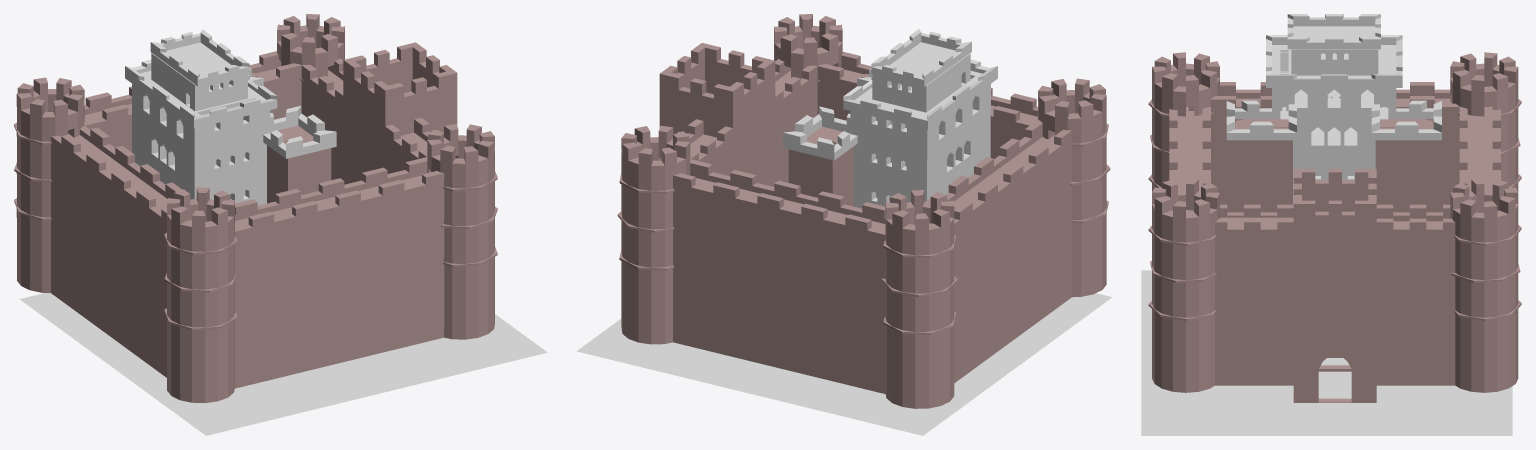
Rendered from lowpolycass.glb.
The picture shows the model from 3 angles, left to right: view 1: azimuth 30°, elevation 25°; view 2: azimuth 150°, elevation 25°; view 3: azimuth 270°, elevation 25°; orthographic projection. The views are drawn at different scales.
Parts seen in each view (by area): view 1: front_gate.002, Plane.008, Cylinder.191, Cylinder.189, Cylinder.190, Cube.297, Cylinder.238, Cube.301, Cylinder.240, Cube.305, Cube.318, Cube.313 (+3 smaller); view 2: front_gate.002, Plane.008, Cylinder.191, Cylinder.189, Cylinder.190, Cube.297, Cube.301, Cylinder.238, Cylinder.240, Cube.305, Cube.318, Cube.313 (+3 smaller); view 3: front_gate.002, Plane.008, Cylinder.191, Cylinder.238, Cylinder.240, Cylinder.190, Cylinder.189, Cube.301, Cube.313, Cube.297, Cube.318, Cube.305 (+5 smaller).
Part boxes in pixels (x1,y1,x2,y2): front_gate.002: (16,42,494,402); Plane.008: (19,293,547,435); Cylinder.191: (16,14,494,251); Cylinder.189: (16,173,494,327); Cylinder.190: (16,133,494,289); Cube.297: (132,113,266,196); Cylinder.238: (347,45,452,183); Cube.301: (132,71,270,158); Cylinder.240: (267,125,331,203); Cube.305: (151,42,247,111); Cube.318: (125,59,277,128); Cube.313: (248,68,336,158); front_gate.002: (621,43,1106,408); Plane.008: (576,293,1112,435); Cylinder.191: (621,14,1106,255); Cylinder.189: (621,174,1106,331); Cylinder.190: (621,137,1106,293); Cube.297: (853,114,990,198); Cube.301: (850,71,990,160); Cylinder.238: (664,46,770,186); Cylinder.240: (788,126,853,206); Cube.305: (872,42,970,112); Cube.318: (843,59,997,129); Cube.313: (783,68,872,160); front_gate.002: (1152,82,1518,402); Plane.008: (1141,270,1512,435); Cylinder.191: (1152,52,1518,242); Cylinder.238: (1302,169,1368,402); Cylinder.240: (1230,119,1437,212); Cylinder.190: (1152,107,1518,280); Cylinder.189: (1152,145,1518,317); Cube.301: (1272,45,1396,119); Cube.313: (1226,100,1441,140); Cube.297: (1293,119,1375,156); Cube.318: (1266,35,1402,87); Cube.305: (1291,26,1378,75).
Size of the model in its own units: 98.78 by 76.65 by 91.78.
